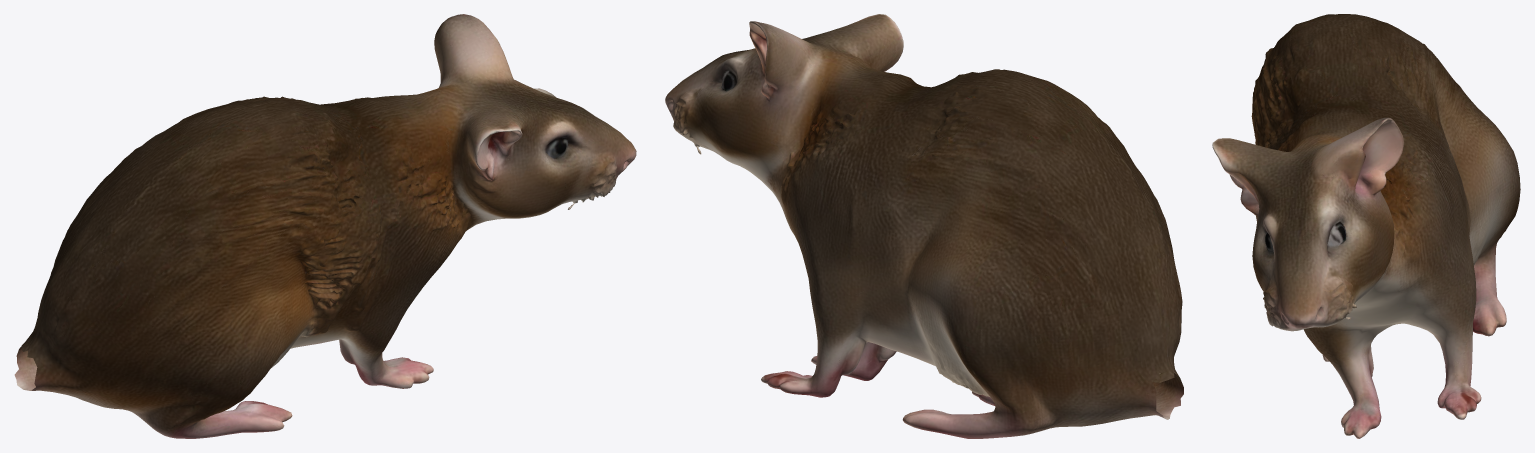
File: rat.glb
The picture shows the model from 3 angles, left to right: view 1: azimuth 30°, elevation 25°; view 2: azimuth 150°, elevation 25°; view 3: azimuth 270°, elevation 25°; orthographic projection.
Bounding box in the file's own units: 0.7098 × 0.4162 × 0.3362.
Materials: 1 (1 with a texture image).
